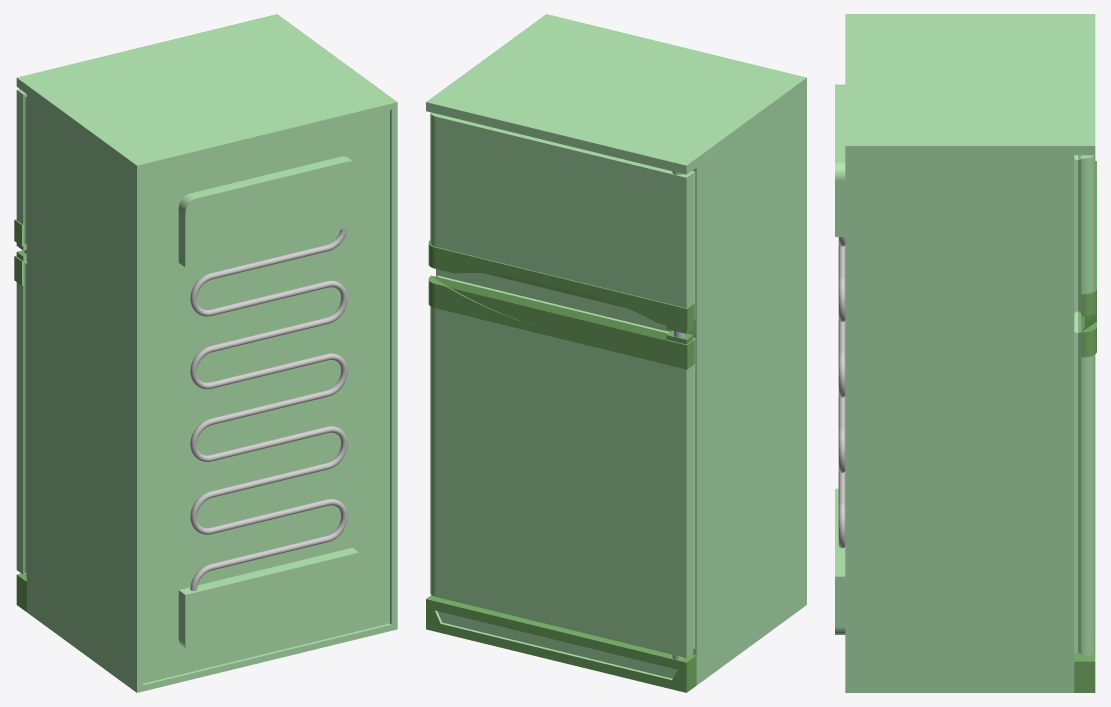
The model's file is Green Fridge.gltf.
3 renders of one model, left to right at view 1: azimuth 30°, elevation 25°; view 2: azimuth 150°, elevation 25°; view 3: azimuth 270°, elevation 25°, orthographic. The views are drawn at different scales.
Visible parts, largest first — view 1: root; view 2: root; view 3: root.
Part boxes in pixels (x1,y1,x2,y2): root: [14, 14, 397, 692]; root: [426, 14, 806, 692]; root: [835, 14, 1096, 692].
Size of the model in its own units: 0.91 by 1.74 by 0.755.
